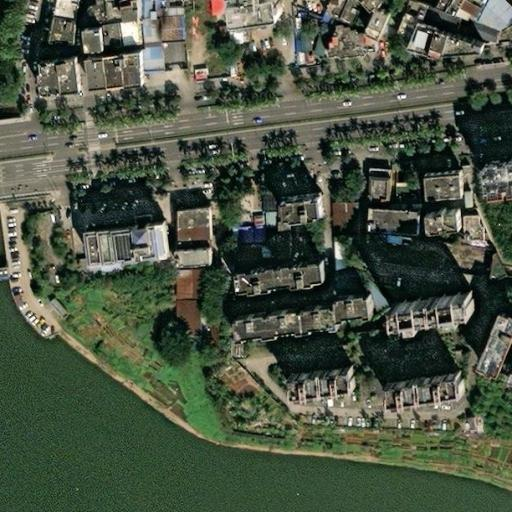building: (87, 219, 175, 259), (237, 298, 335, 332), (385, 294, 465, 326), (231, 262, 315, 292), (378, 373, 452, 407), (421, 10, 490, 45), (474, 318, 512, 380), (79, 52, 135, 91), (287, 365, 351, 398), (409, 28, 452, 62), (326, 33, 375, 62), (32, 59, 71, 94), (478, 158, 512, 194), (369, 212, 418, 235), (129, 2, 151, 48), (420, 212, 461, 236), (152, 6, 176, 45), (169, 269, 198, 298), (281, 196, 319, 218), (183, 10, 207, 43), (332, 293, 367, 315), (50, 19, 77, 47), (221, 0, 271, 15), (432, 182, 465, 204), (360, 7, 385, 36), (485, 248, 508, 277), (326, 203, 349, 231), (286, 42, 311, 67), (154, 44, 177, 70), (178, 211, 208, 229), (54, 0, 78, 22), (309, 15, 331, 39), (118, 24, 139, 49), (462, 407, 483, 432), (367, 180, 386, 207), (178, 301, 193, 333), (182, 253, 211, 269), (199, 315, 215, 344), (230, 226, 255, 244), (102, 25, 120, 50), (218, 26, 239, 47), (390, 187, 413, 205), (88, 6, 107, 27), (78, 27, 96, 49), (231, 247, 257, 261), (196, 0, 217, 17), (326, 242, 339, 269), (256, 245, 281, 259), (398, 23, 417, 41), (303, 36, 319, 56), (333, 267, 350, 283), (253, 195, 267, 213), (168, 300, 178, 322), (256, 212, 268, 229), (176, 22, 185, 43), (55, 48, 70, 60), (206, 26, 216, 43), (131, 214, 147, 224), (381, 235, 394, 243)
